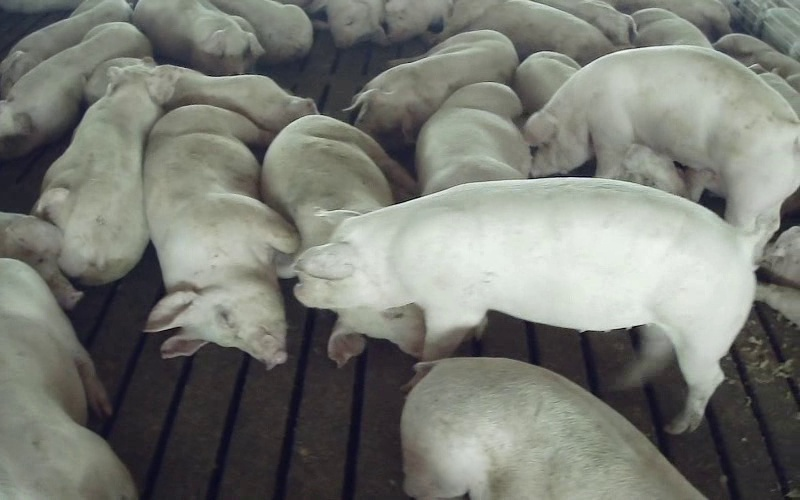pig: (295, 181, 753, 432), (525, 46, 799, 254), (401, 358, 705, 499), (33, 61, 180, 284), (261, 115, 415, 251), (0, 22, 151, 159), (346, 30, 518, 143), (416, 82, 530, 195), (436, 0, 616, 64), (165, 69, 316, 133), (133, 0, 264, 73), (211, 0, 312, 63)
